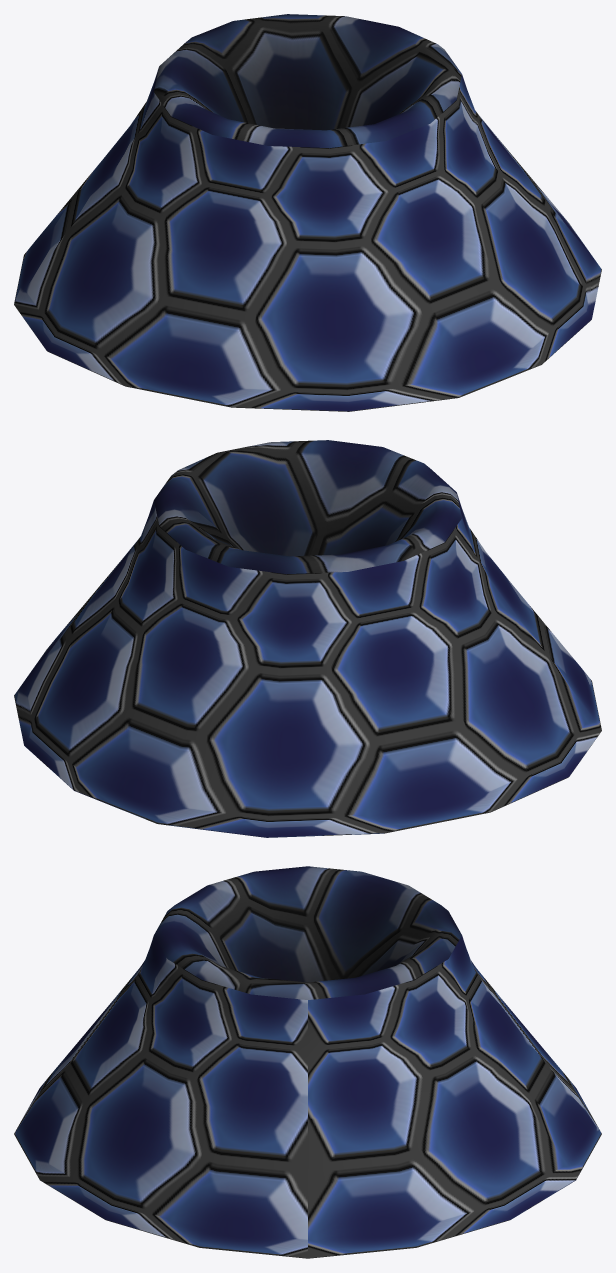
Rendered from Hive.fbx.
The picture shows the model from 3 angles, top to bottom: view 1: azimuth 30°, elevation 25°; view 2: azimuth 150°, elevation 25°; view 3: azimuth 270°, elevation 25°; orthographic projection. The views are drawn at different scales.
Parts seen in each view (by area): view 1: pCube1; view 2: pCube1; view 3: pCube1.
Boxes of the visible parts, x1=… form: pCube1: x1=14, y1=14, x2=601, y2=411; pCube1: x1=14, y1=440, x2=601, y2=837; pCube1: x1=14, y1=866, x2=601, y2=1258.
Bounding box in the file's own units: 1.96 × 0.7669 × 1.96.
